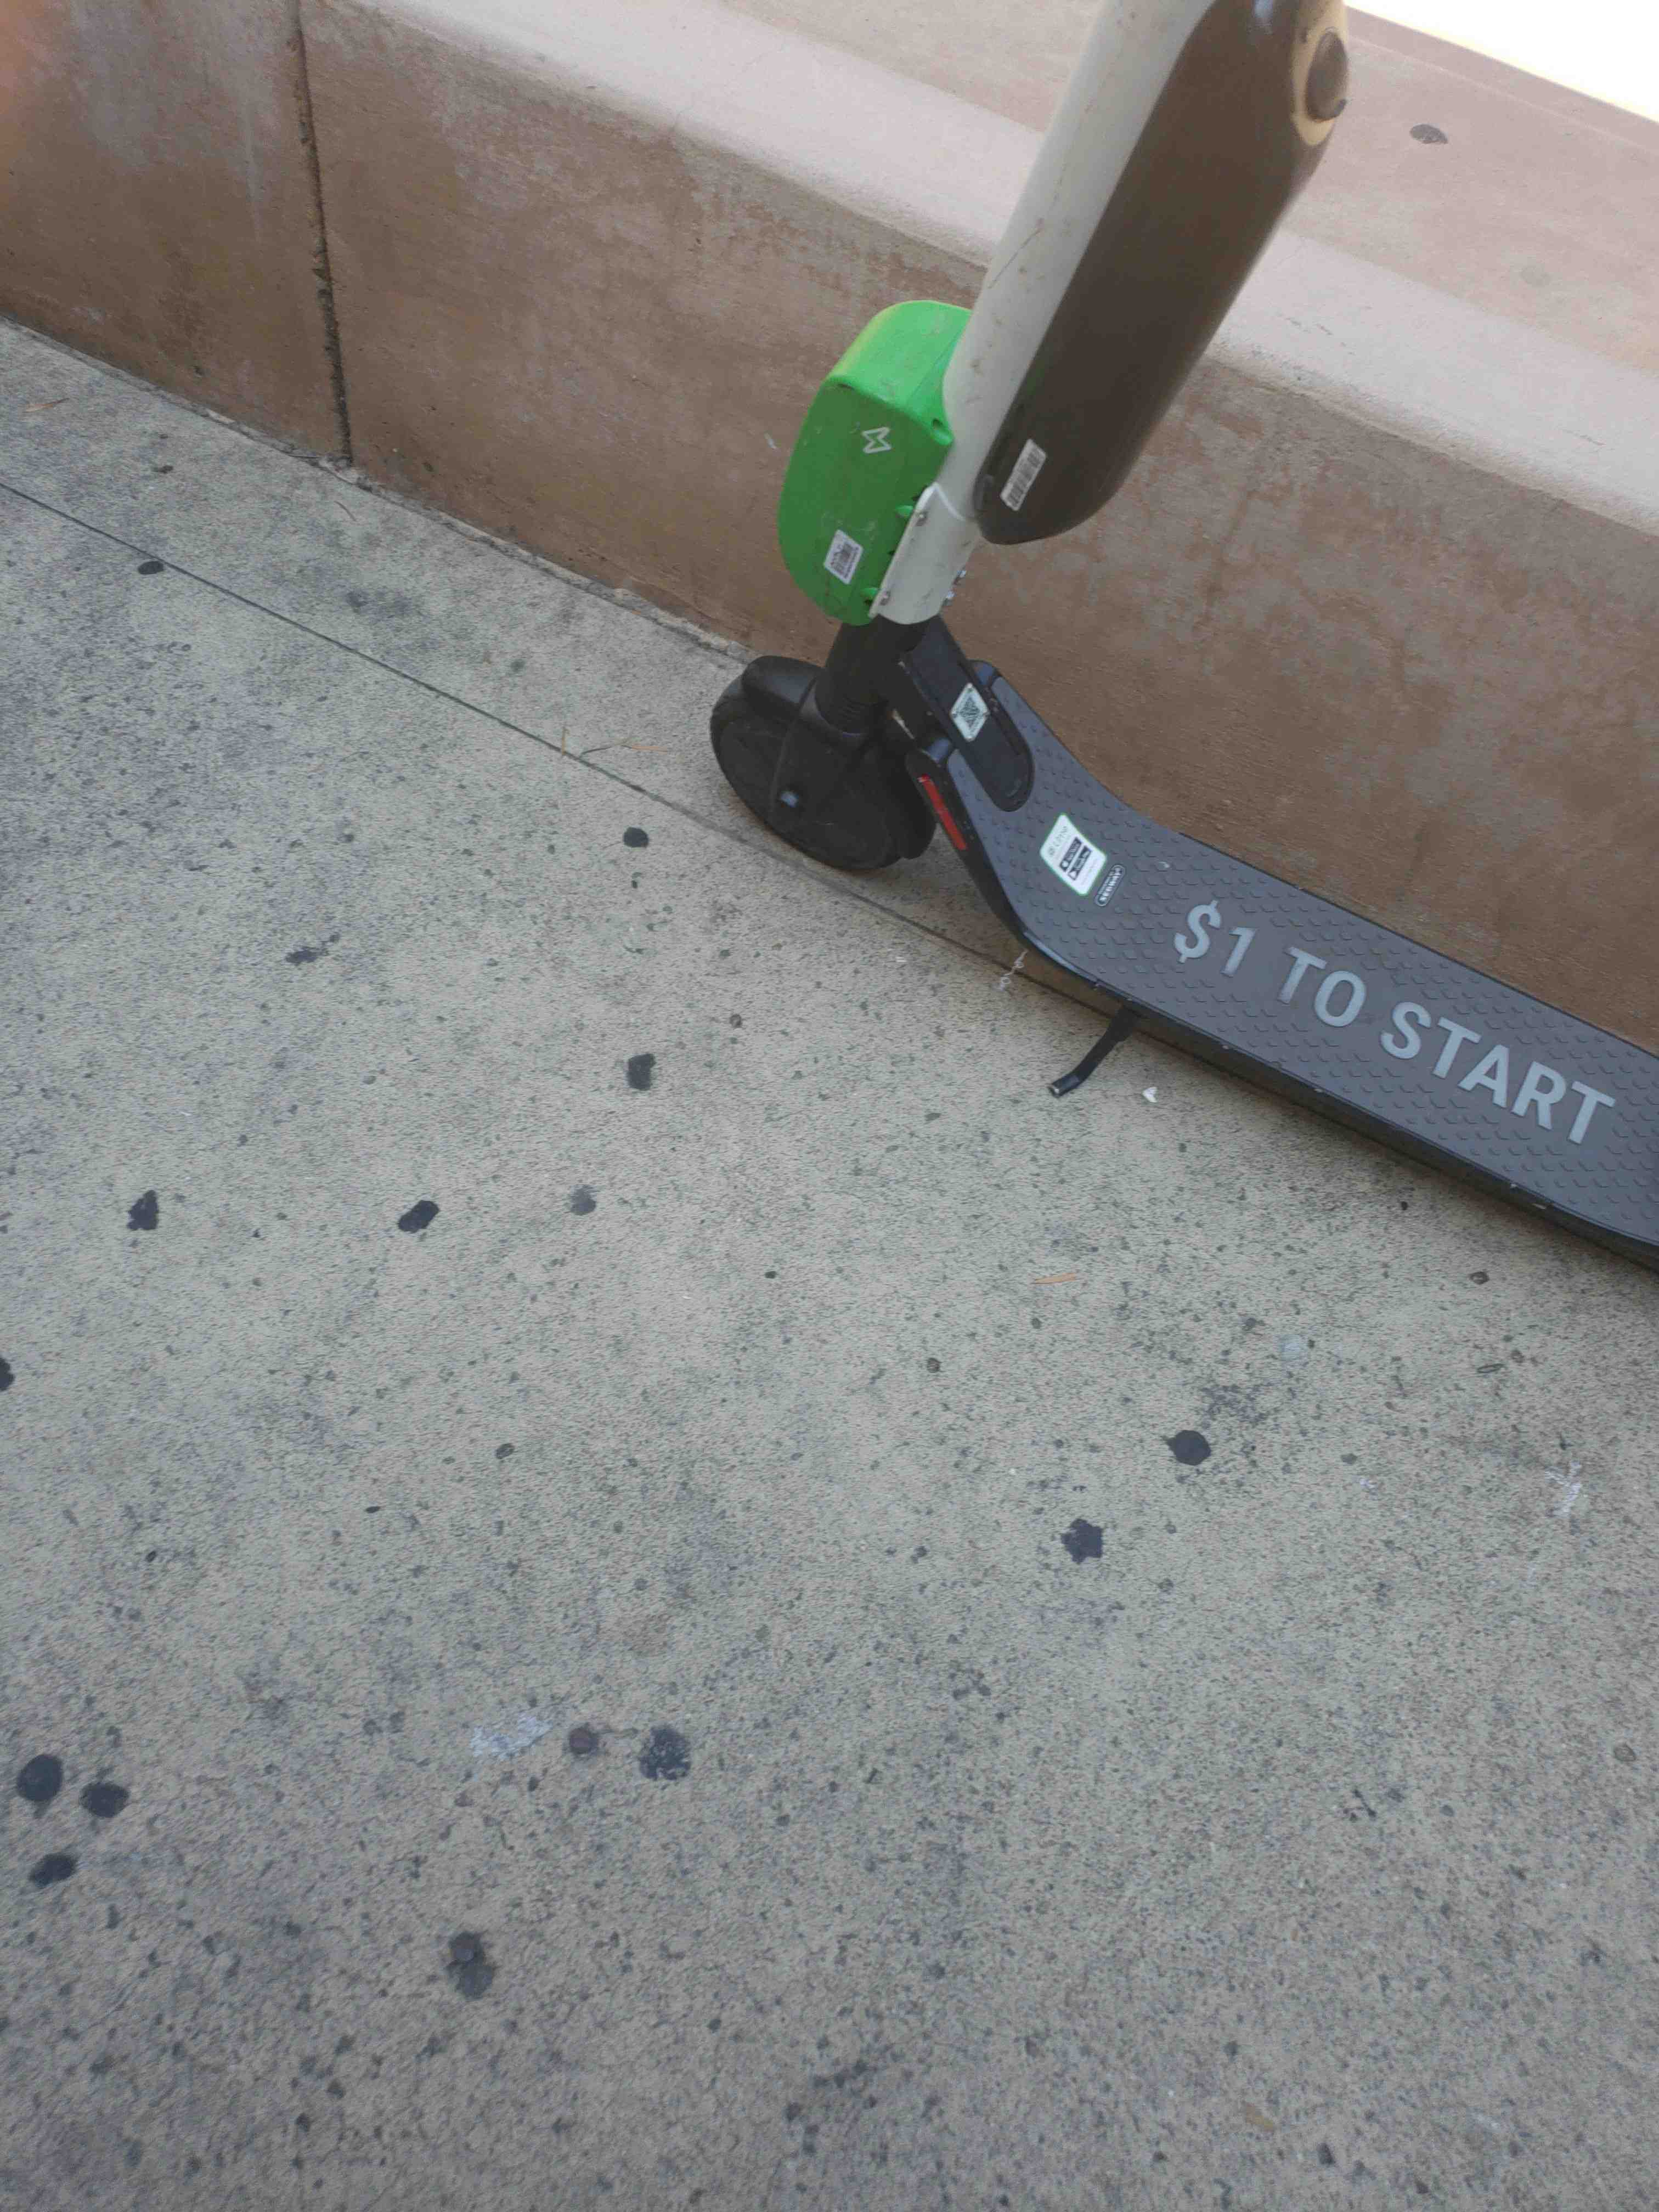scooter: (704, 5, 1659, 1280)
